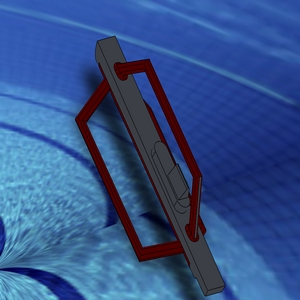submarine: (55, 8, 272, 300)
